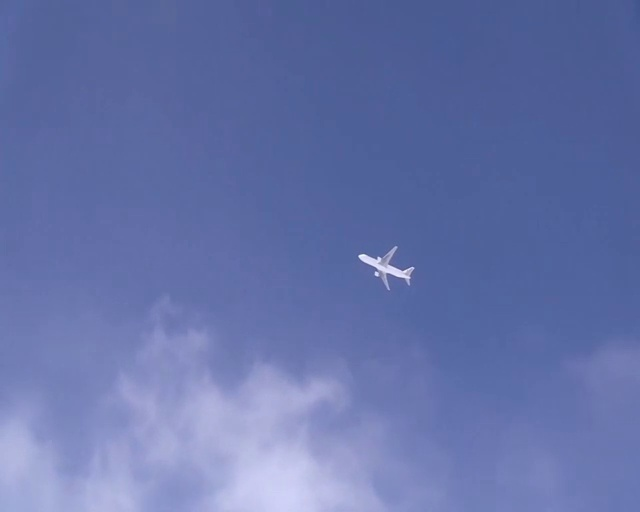AIRPLANE: (357, 245, 414, 290)
